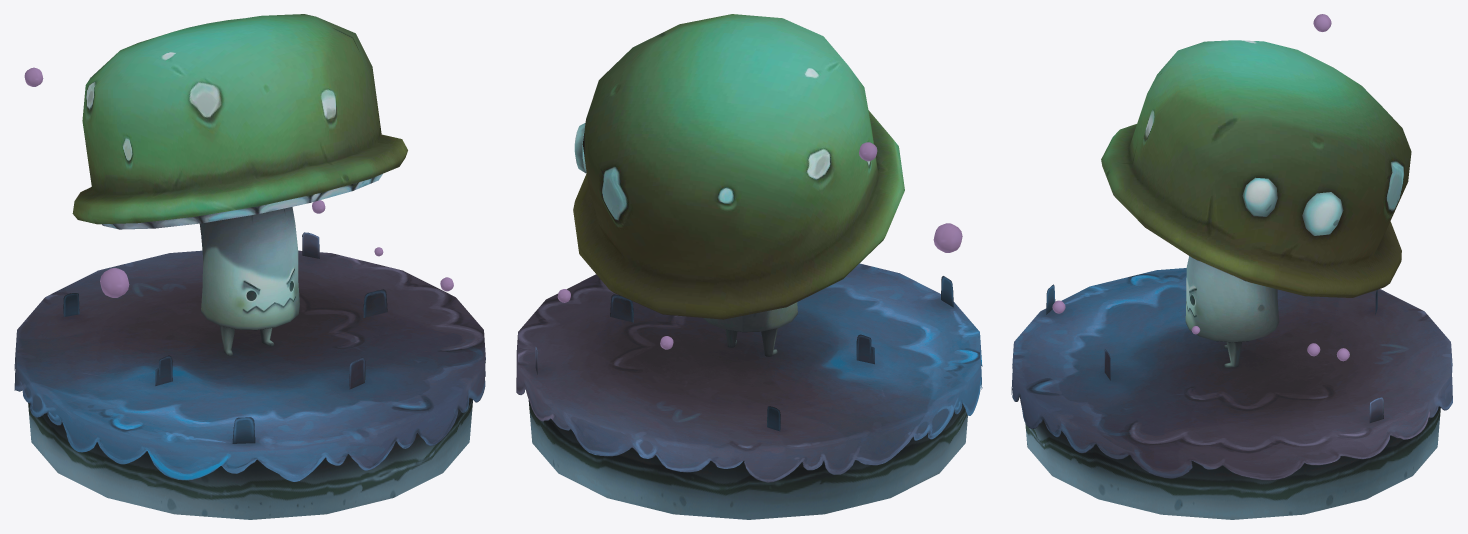
Rendered from mushroom84.gltf.
3 views of the same model, side by side, from view 1: azimuth 30°, elevation 25°; view 2: azimuth 150°, elevation 25°; view 3: azimuth 270°, elevation 25° (orthographic). The views are drawn at different scales.
Visible parts, largest first — view 1: Mesh_0, Mesh_1; view 2: Mesh_0, Mesh_1; view 3: Mesh_0, Mesh_1.
Boxes of the visible parts, x1,y1,x2,y2 form: Mesh_0: (14,67,485,519); Mesh_1: (72,14,407,356); Mesh_0: (516,142,982,519); Mesh_1: (573,14,904,356); Mesh_0: (1011,14,1452,519); Mesh_1: (1101,40,1411,367).
Size of the model in its own units: 2.97 by 2.71 by 2.92.
Materials: 2 (2 with a texture image).
